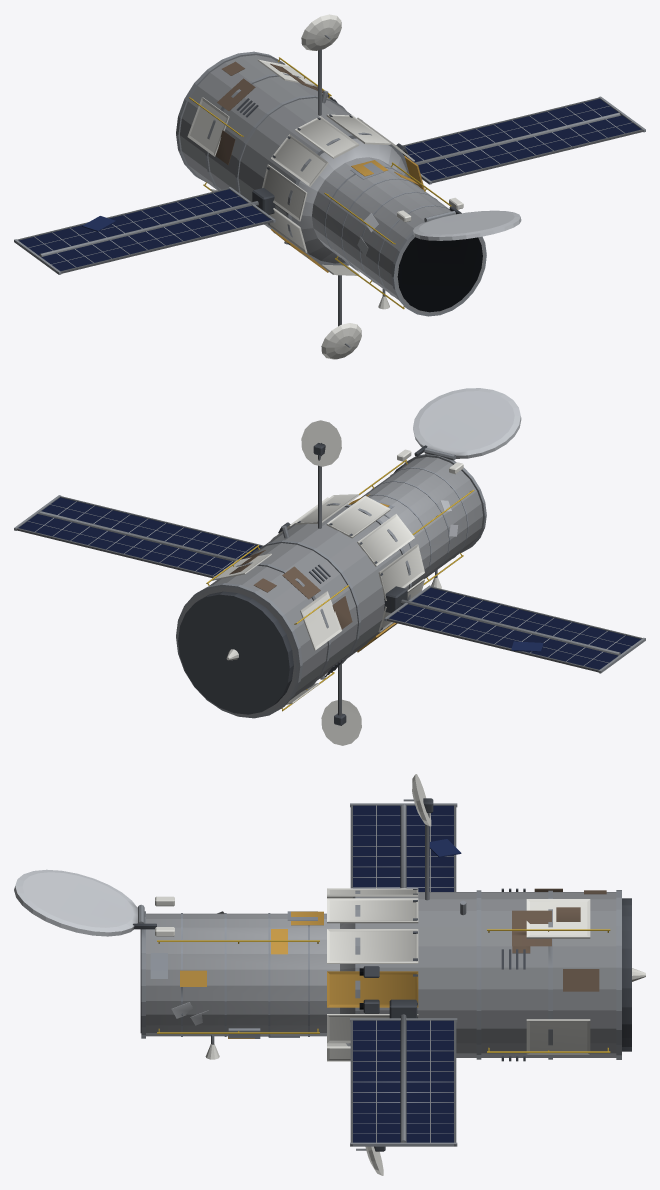
File: space_telescope.glb
3 views of the same model, one above another, from view 1: azimuth 30°, elevation 25°; view 2: azimuth 150°, elevation 25°; view 3: azimuth 270°, elevation 25° (orthographic). The views are drawn at different scales.
Parts seen in each view (by area): view 1: space_telescope; view 2: space_telescope; view 3: space_telescope.
Boxes of the visible parts, x1,y1,x2,y2 form: space_telescope: [14, 14, 645, 359]; space_telescope: [14, 388, 645, 745]; space_telescope: [14, 774, 645, 1175].
Size of the model in its own units: 20.28 by 11 by 15.9.
